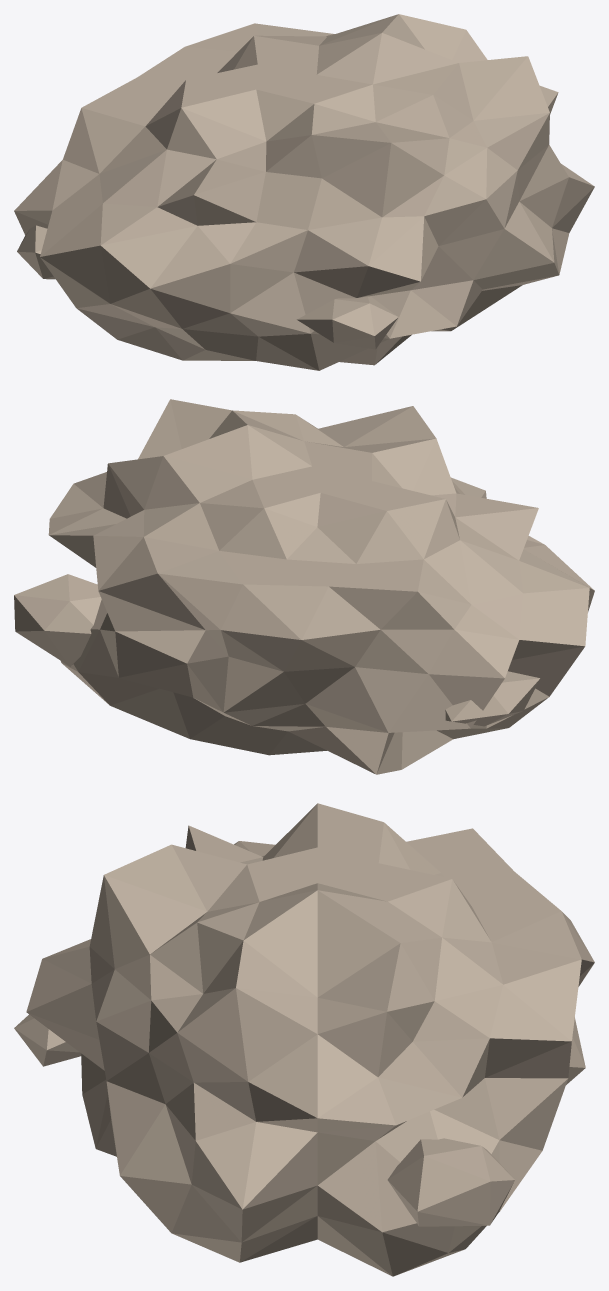
The model's file is rock.glb.
3 renders of one model, top to bottom at view 1: azimuth 30°, elevation 25°; view 2: azimuth 150°, elevation 25°; view 3: azimuth 270°, elevation 25°, orthographic. The views are drawn at different scales.
Parts seen in each view (by area): view 1: Rock; view 2: Rock; view 3: Rock.
Part boxes in pixels (x1=…): Rock: x1=14, y1=14, x2=594, y2=370; Rock: x1=14, y1=399, x2=594, y2=774; Rock: x1=14, y1=803, x2=594, y2=1276.
Size of the model in its own units: 2.29 by 1.28 by 1.82.
